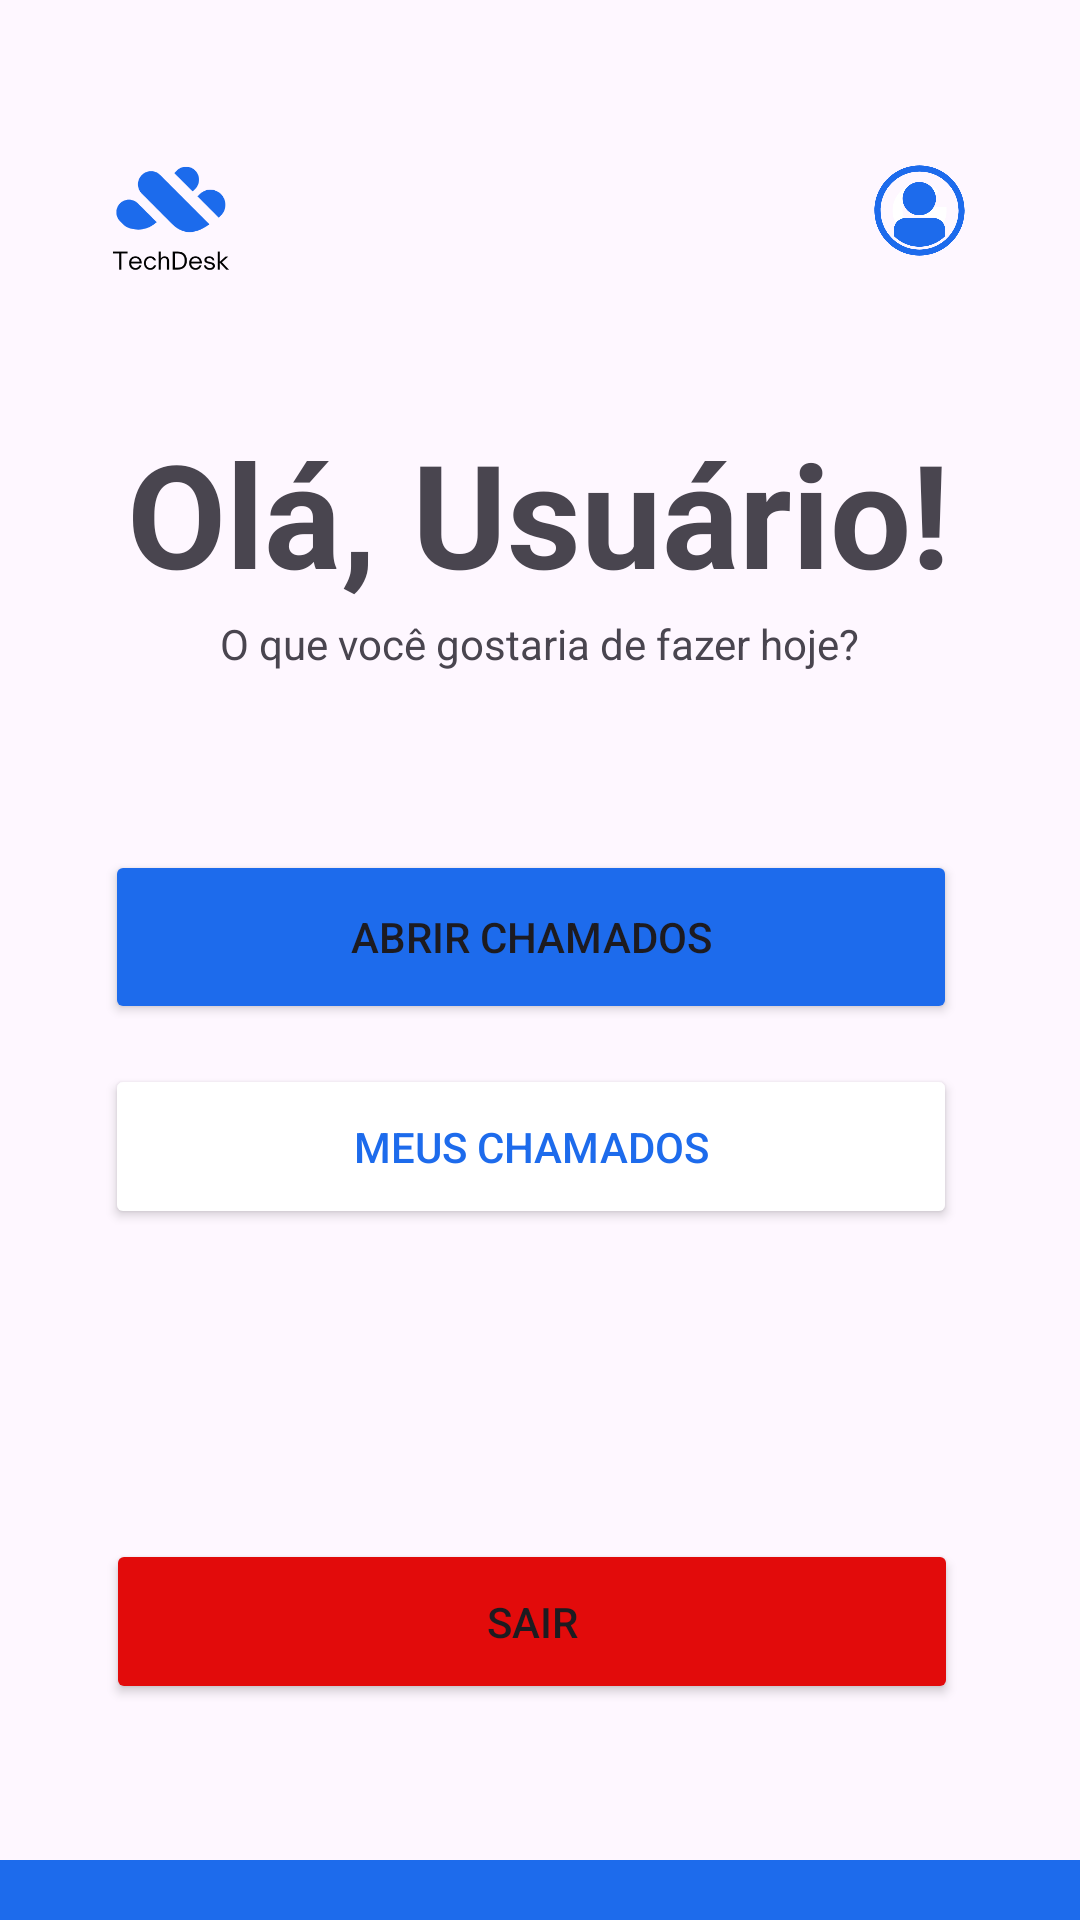

Screen size 1080px x 1920px. Icon name, then its center in pixels as point (x, y):
personblue: point (919, 210)
